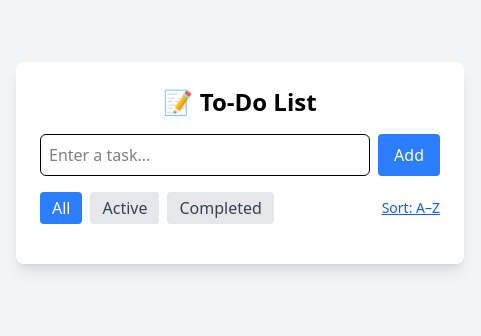
Test case: To-Do App › filters active tasks
The width and height of the screenshot is (481, 336).
// Add one active and one completed task
Type "Active task" into the field with placeholder "Enter a task..." at (205, 155), box top-left (40, 134), bottom-right (370, 176)
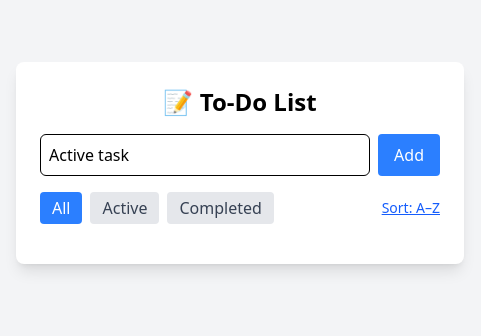
Click the button "Add" at (409, 155), box top-left (378, 134), bottom-right (440, 176)
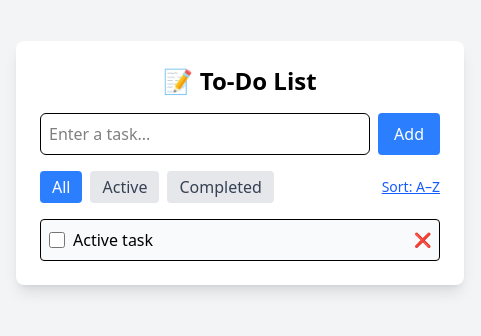
Type "Completed task" into the field with placeholder "Enter a task..." at (205, 134), box top-left (40, 113), bottom-right (370, 155)
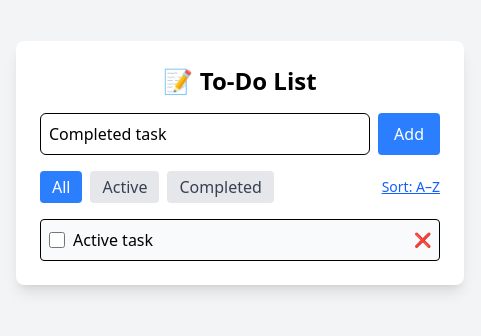
Click the button "Add" at (409, 134), box top-left (378, 113), bottom-right (440, 155)
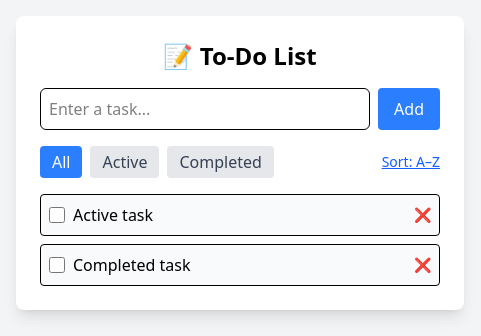
Click the checkbox next to "Completed task" at (57, 265), box top-left (49, 257), bottom-right (65, 273)
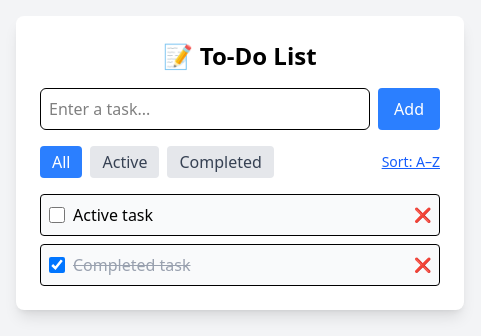
Click the button "Active" at (125, 162), box top-left (90, 146), bottom-right (160, 178)
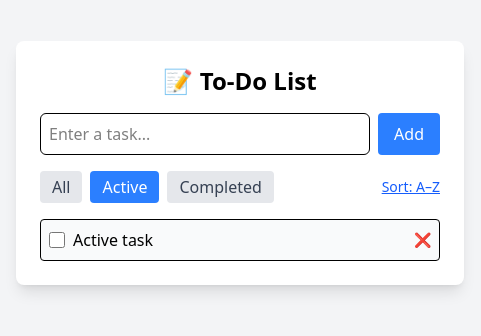
Result: the text "Active task" is shown at top-left (73, 228), bottom-right (153, 252)
Result: the text "Completed task" is gone
